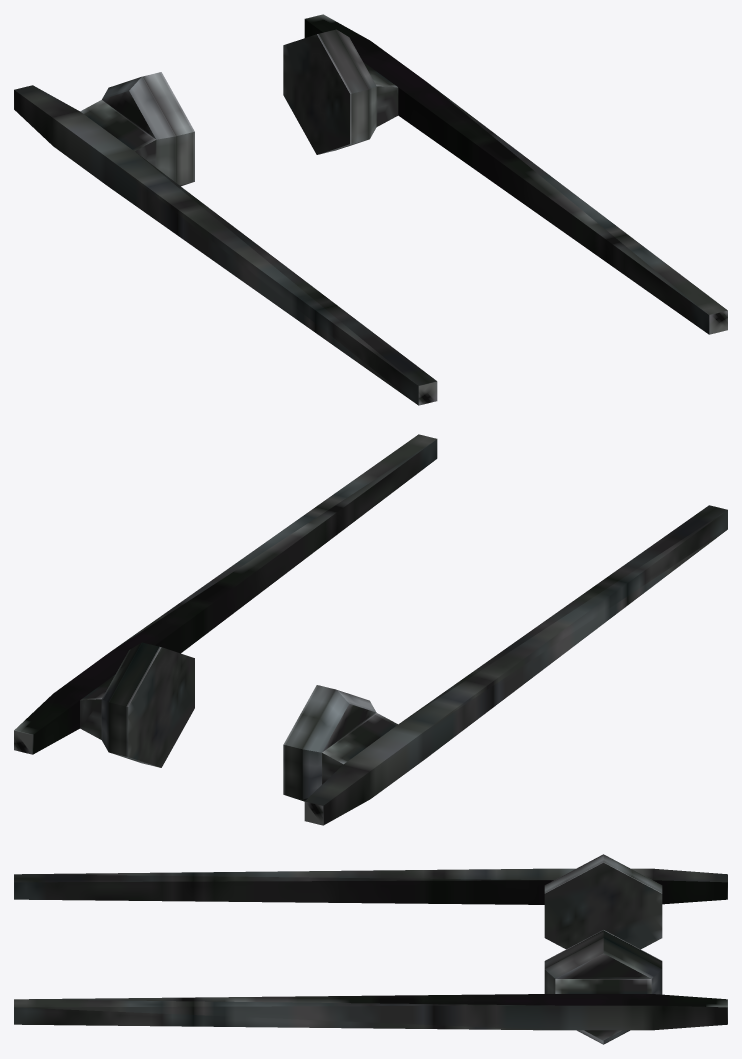
The model's file is imperial_gunboat_turretbody_nose_l2.fbx.
3 renders of one model, top to bottom at view 1: azimuth 30°, elevation 25°; view 2: azimuth 150°, elevation 25°; view 3: azimuth 270°, elevation 25°, orthographic. The views are drawn at different scales.
Parts seen in each view (by area): view 1: mesh_node; view 2: mesh_node; view 3: mesh_node.
Part boxes in pixels (x1=…): mesh_node: x1=14, y1=14, x2=727, y2=405; mesh_node: x1=14, y1=434, x2=727, y2=825; mesh_node: x1=14, y1=854, x2=727, y2=1044.
Bounding box in the file's own units: 6.13 × 2.23 × 13.52.
1 material, 1 textured.
